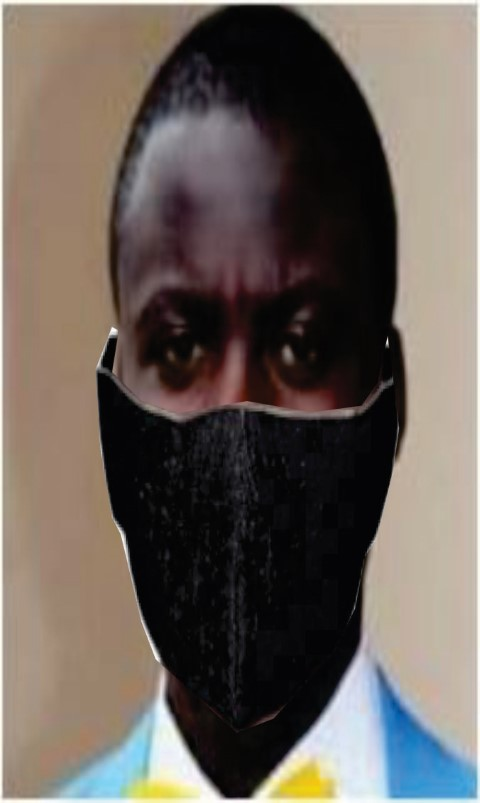with_facemask: (78, 380, 430, 725)
